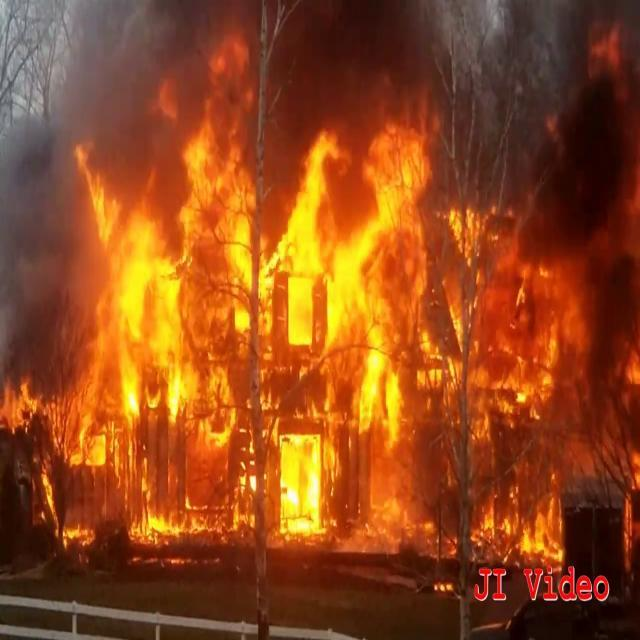Fire: (6, 84, 634, 556)
Smoke: (0, 75, 97, 374)
